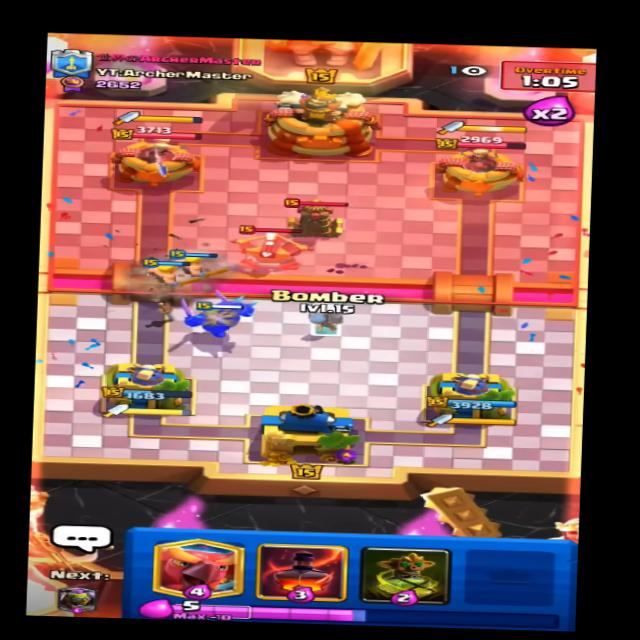tesla: (283, 198, 353, 241)
x-bow: (223, 223, 312, 275)
